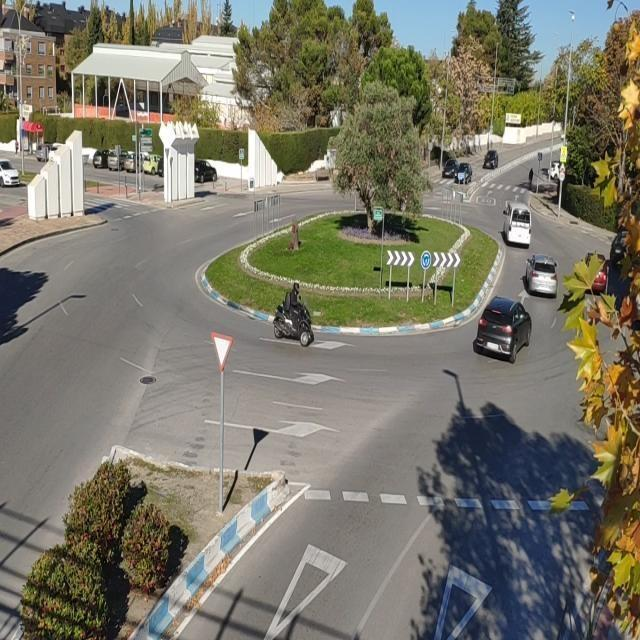Car: (472, 296, 534, 362), (525, 254, 559, 298), (195, 159, 218, 183), (454, 162, 472, 184), (482, 150, 498, 170), (442, 160, 458, 178)
Cycle: (273, 295, 315, 348)
Van: (502, 202, 532, 247)
